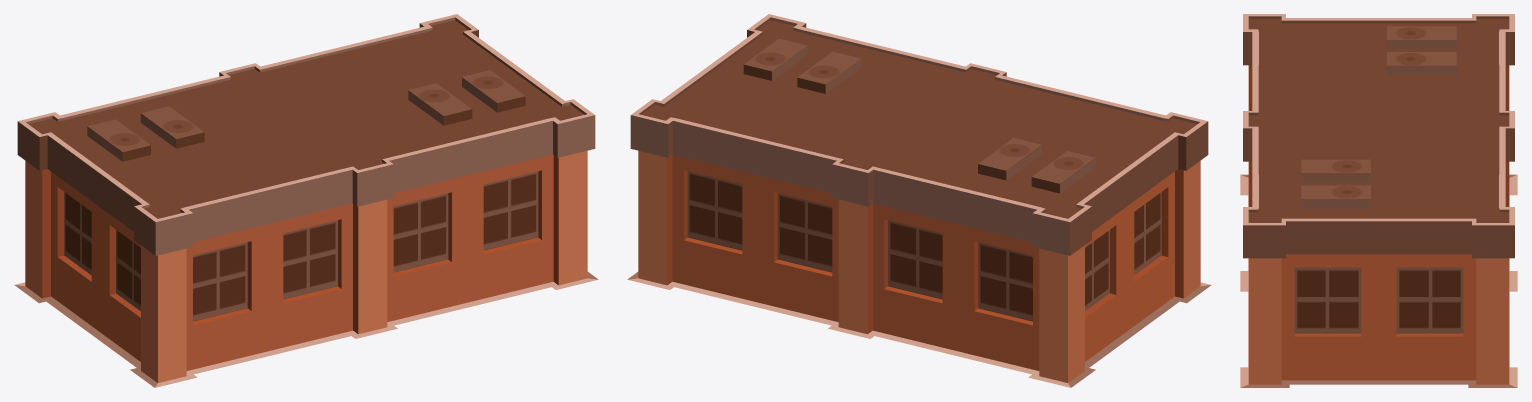
Rendered from BuildingRed_Middle.fbx.
3 renders of one model, left to right at view 1: azimuth 30°, elevation 25°; view 2: azimuth 150°, elevation 25°; view 3: azimuth 270°, elevation 25°, orthographic.
Parts seen in each view (by area): view 1: BuildingRed_Middle; view 2: BuildingRed_Middle; view 3: BuildingRed_Middle.
Boxes of the visible parts, x1=… form: BuildingRed_Middle: x1=14, y1=14, x2=598, y2=387; BuildingRed_Middle: x1=627, y1=14, x2=1211, y2=387; BuildingRed_Middle: x1=1240, y1=14, x2=1517, y2=387.
Bounding box in the file's own units: 826 × 304 × 454.
1 material, 1 textured.
